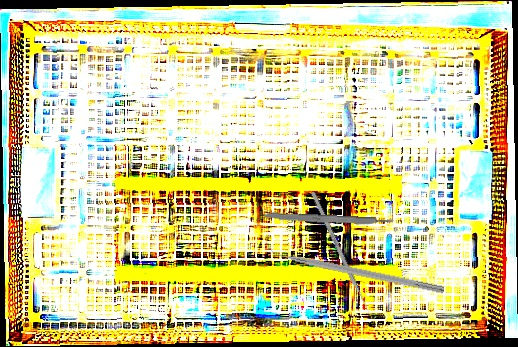Chopper: (263, 238, 447, 294)
Pusher: (310, 191, 373, 318)
Scalpel Handle: (259, 211, 395, 228)
